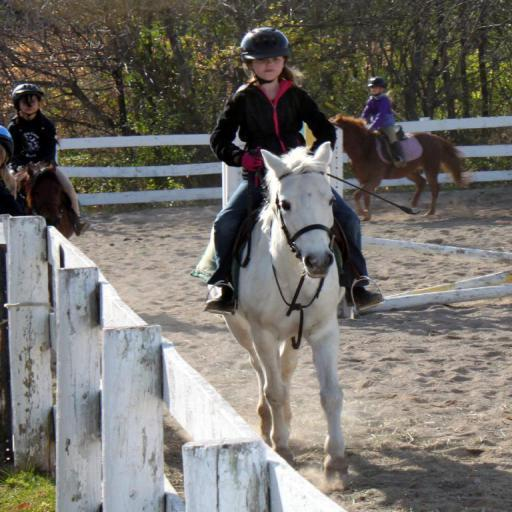horse: (206, 138, 348, 488), (330, 118, 474, 224), (7, 158, 81, 240)
